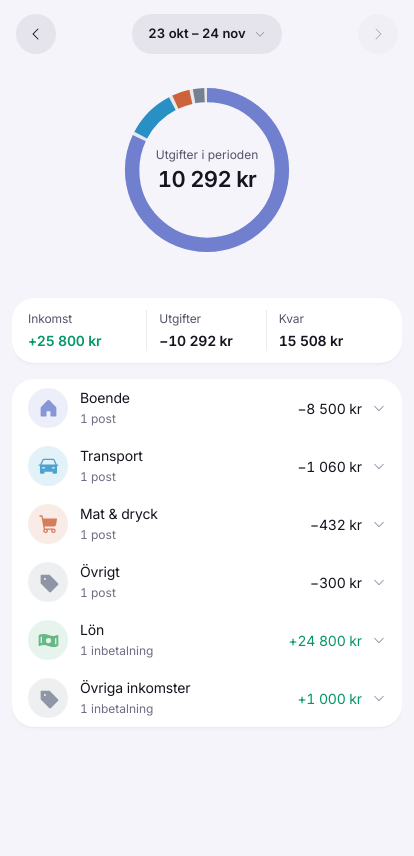
Scenario: analys – buggar › förra perioden direkt efter en helgflyttad lön hoppas inte över
What coordinates should you click on to do the following:
click the button named "Föregående period"
I would click on:
 (36, 34)
Its box is [16,14,56,54].
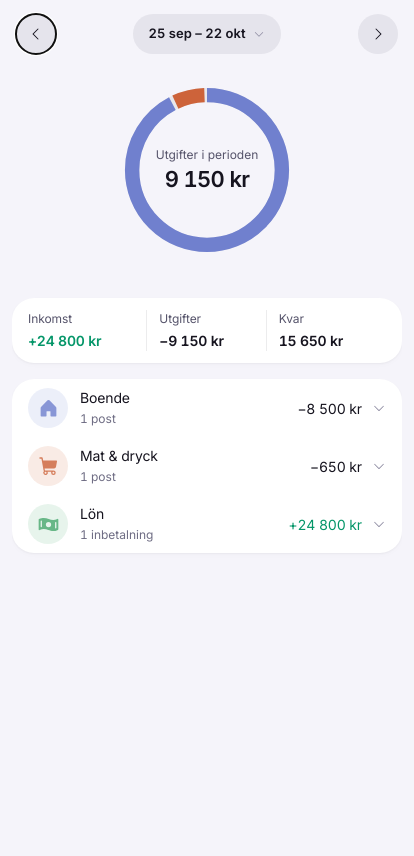
Expected: the text "25 sep – 22 okt" is shown, [148,24,246,44]
